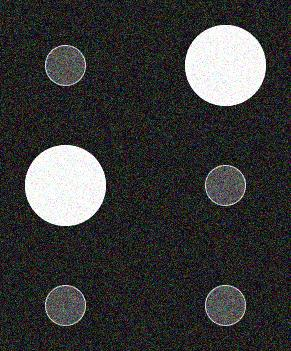I: (18, 16, 274, 334)
